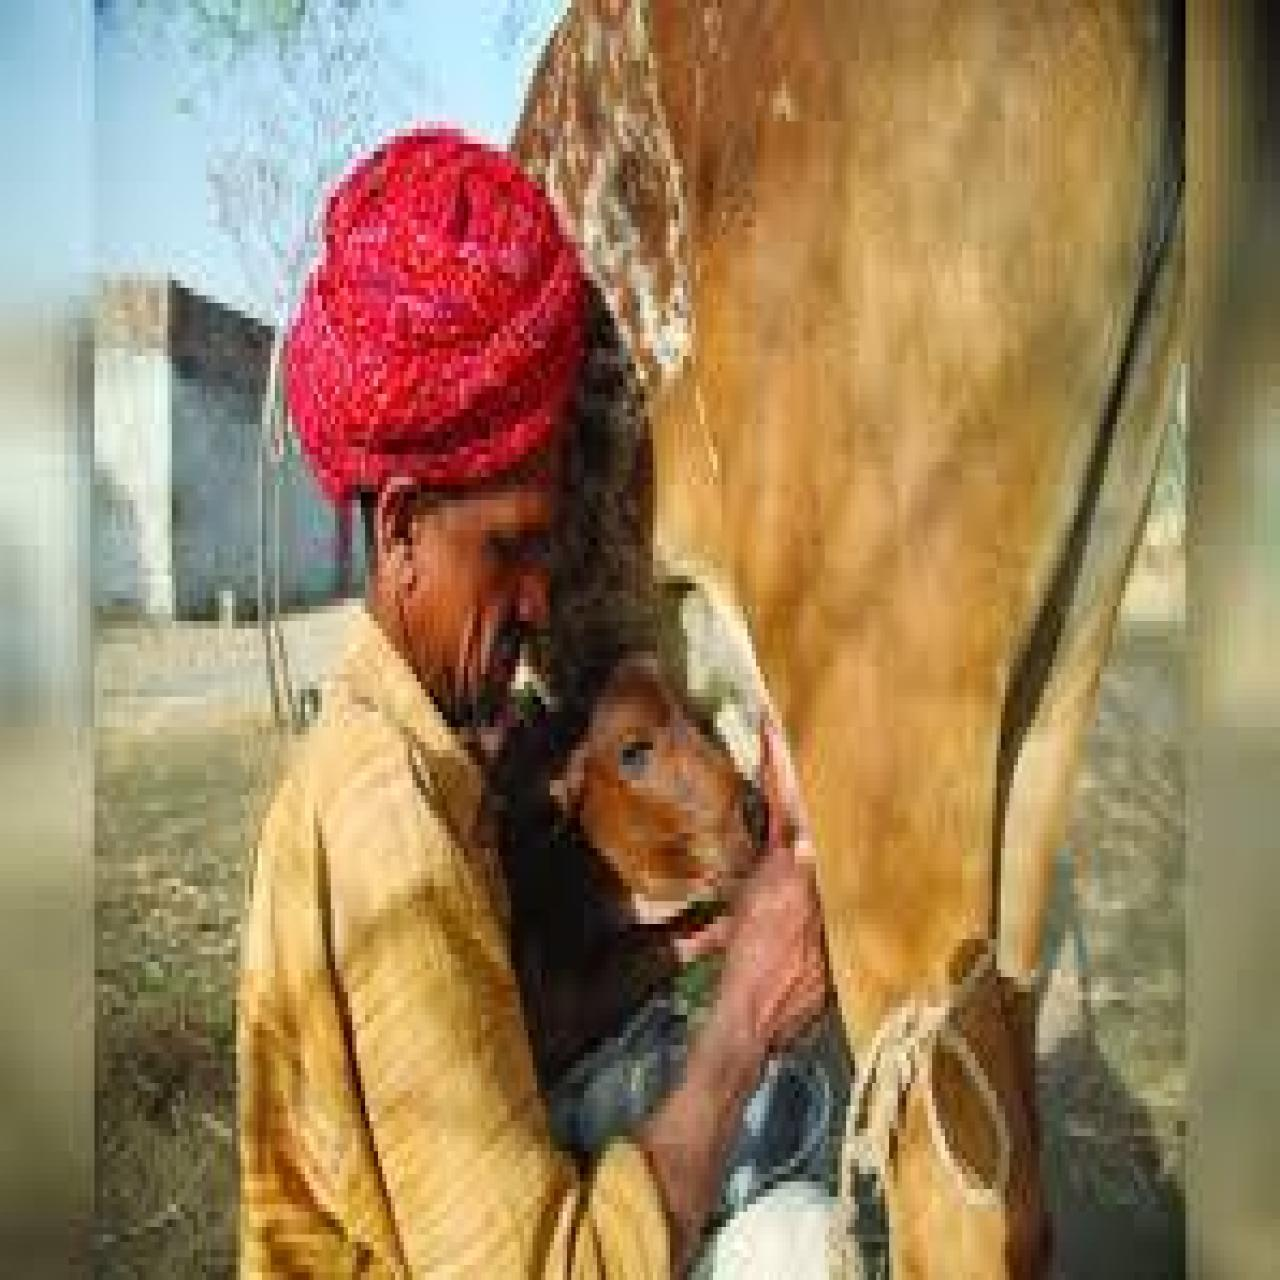cow: (506, 0, 1182, 1280), (542, 652, 777, 924)
